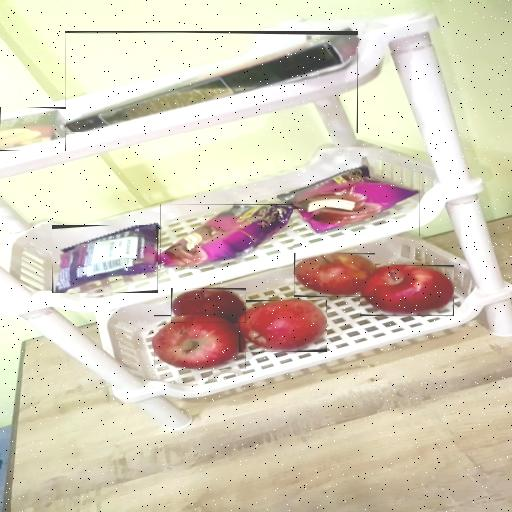Apple: (154, 315, 246, 369), (360, 265, 454, 316), (239, 300, 327, 352), (294, 253, 375, 297), (171, 288, 246, 323)
Choco Fills: (65, 32, 358, 134), (0, 107, 66, 151)
Choco Pie: (278, 168, 420, 236), (160, 204, 293, 268), (52, 225, 158, 293)
